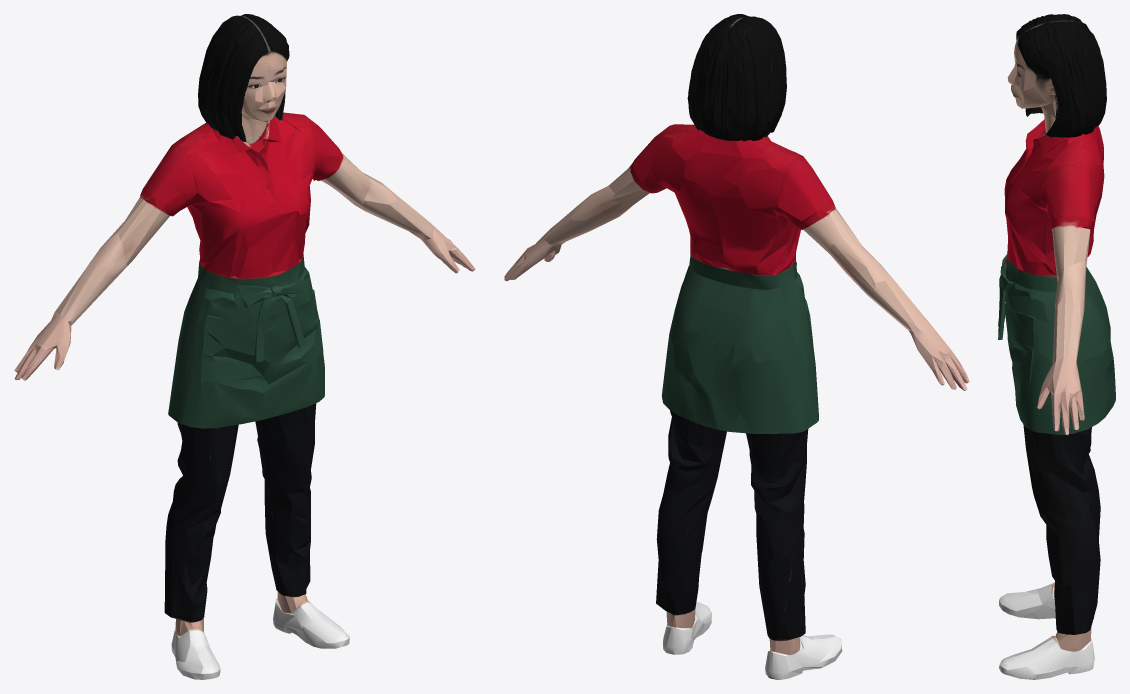
The model's file is image3d.glb.
3 views of the same model, side by side, from view 1: azimuth 30°, elevation 25°; view 2: azimuth 150°, elevation 25°; view 3: azimuth 270°, elevation 25° (orthographic).
Bounding box in the file's own units: 1.45 × 1.9 × 0.3253.
1 material, 1 textured.
